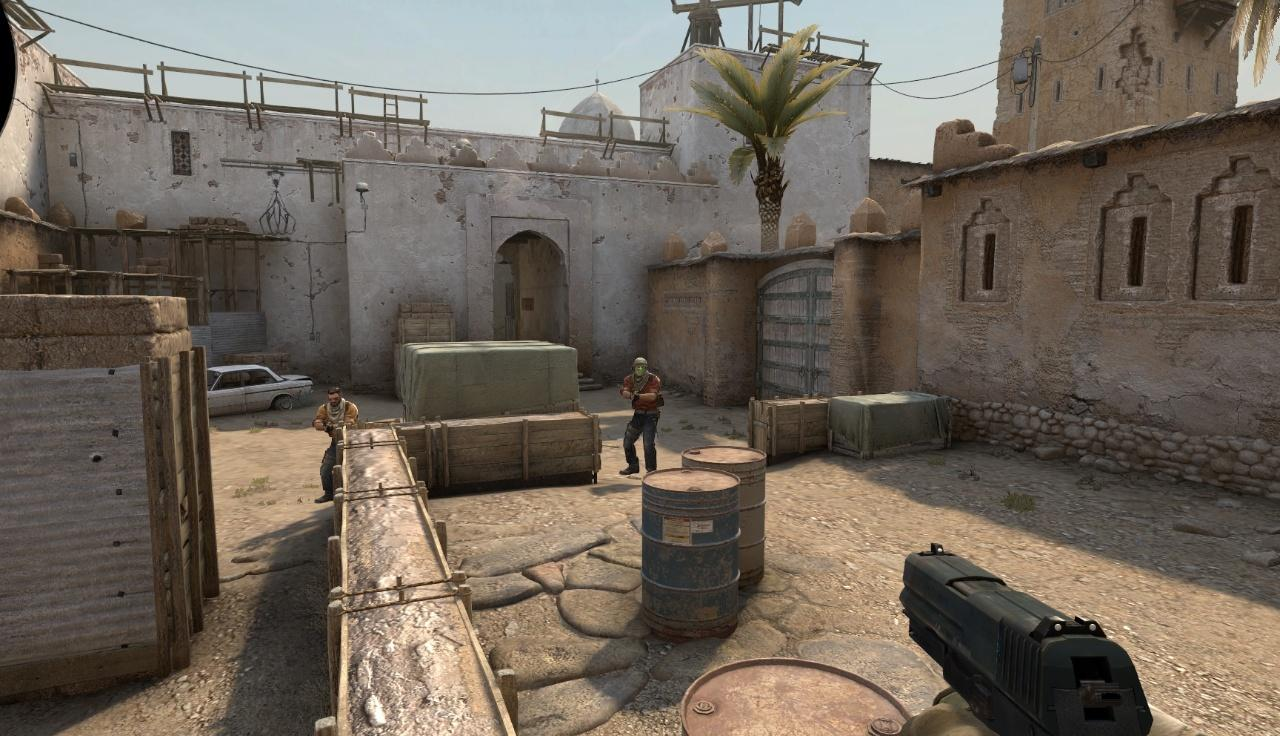pistol: (901, 541, 1156, 736)
tt: (314, 386, 358, 501), (620, 358, 661, 470)
tthead: (632, 358, 647, 377), (327, 388, 342, 407)
